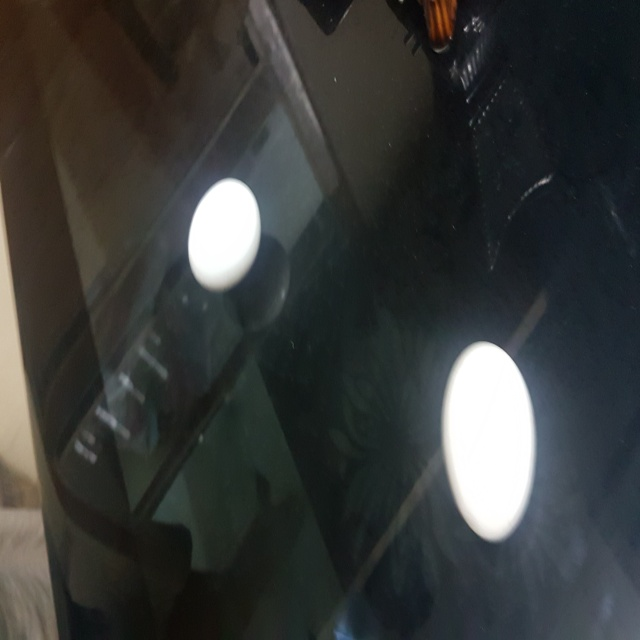eggs: (441, 338, 536, 542), (186, 177, 261, 292)
